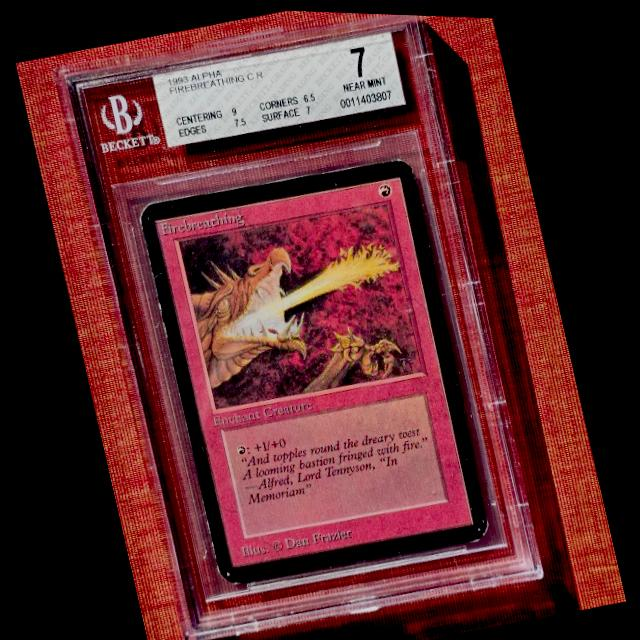bgs_label: (151, 27, 405, 146)
bgs_slab: (47, 10, 544, 640)
card: (136, 153, 492, 584)
